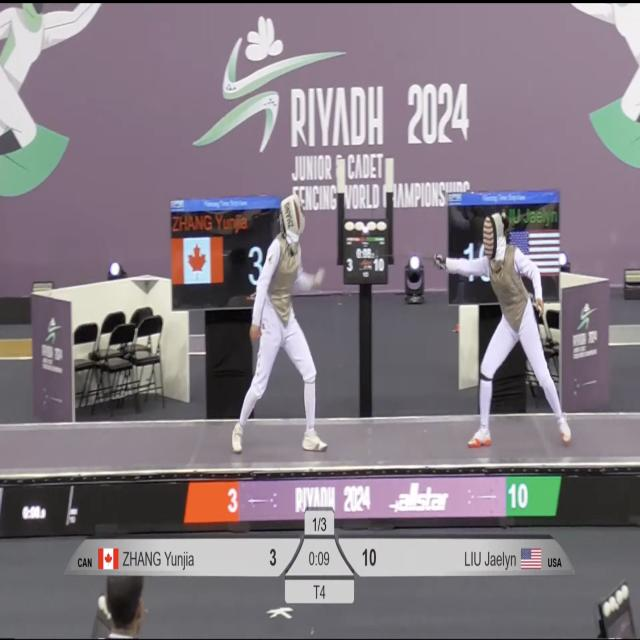fencer: (462, 200, 581, 458), (233, 186, 334, 467)
overlayLeft: (62, 534, 252, 576)
overlayRight: (393, 540, 576, 574)
scoreLeft: (257, 537, 308, 577)
scoreRight: (332, 540, 388, 576)
